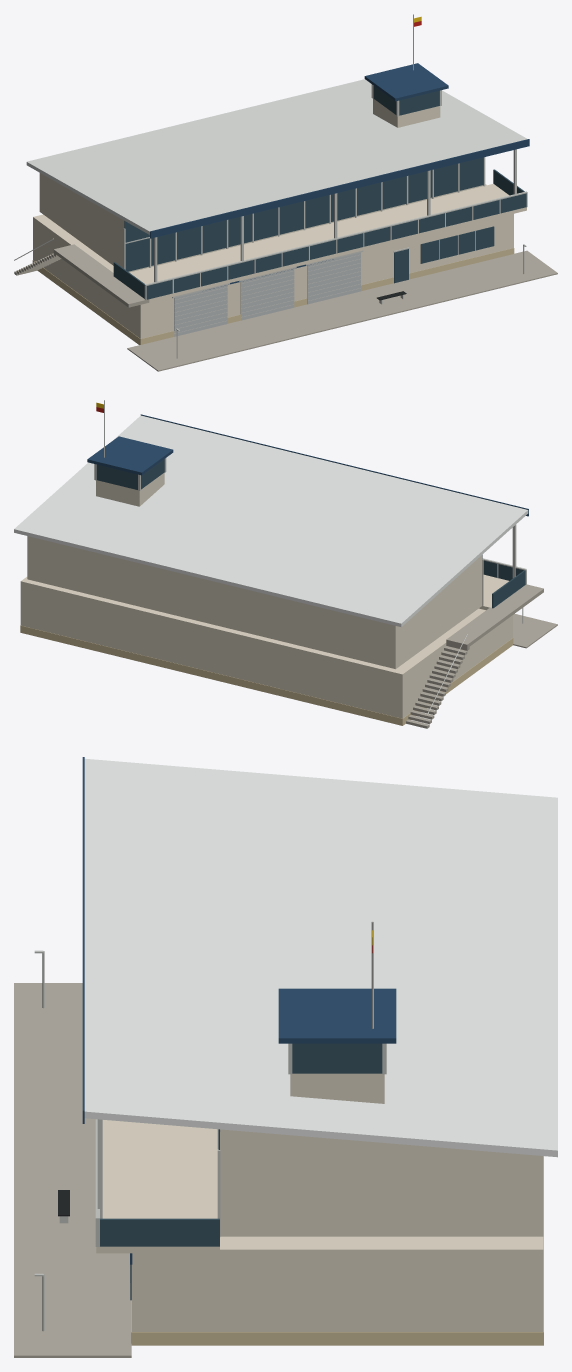
Rendered from trigg_surf_club.glb.
3 views of the same model, one above another, from view 1: azimuth 30°, elevation 25°; view 2: azimuth 150°, elevation 25°; view 3: azimuth 270°, elevation 25° (orthographic). The views are drawn at different scales.
Parts seen in each view (by area): view 1: TriggSurfClub; view 2: TriggSurfClub; view 3: TriggSurfClub.
Part boxes in pixels (<box>): TriggSurfClub: <box>14,14,557,371</box>; TriggSurfClub: <box>14,400,557,728</box>; TriggSurfClub: <box>14,757,557,1357</box>.
Size of what is drawn, in the model's own units: 30.63 by 14.59 by 18.5.
Materials: 12 (1 with a texture image).
